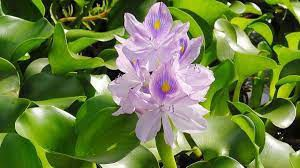water_hyacinth: (0, 0, 300, 168)
